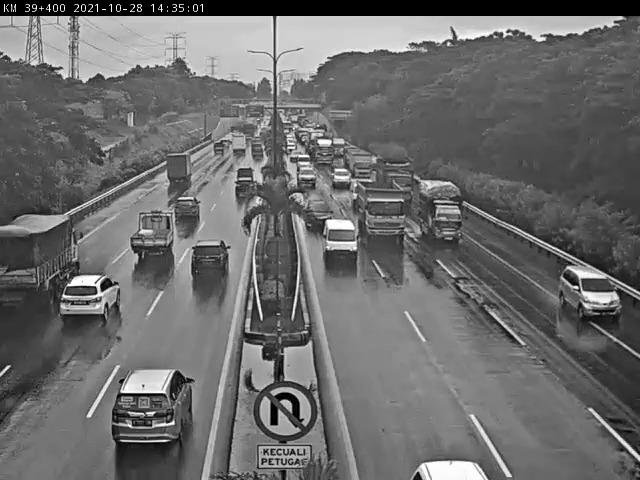big truck: (0, 216, 81, 309), (355, 182, 405, 240), (373, 147, 416, 182)
car: (104, 367, 214, 449), (550, 260, 630, 323), (48, 269, 126, 333), (395, 440, 490, 479), (179, 234, 237, 295), (321, 214, 359, 266), (162, 197, 204, 235), (291, 158, 320, 186), (303, 191, 329, 216), (328, 161, 351, 186), (231, 168, 259, 185), (232, 192, 257, 211)
small truck: (417, 181, 471, 246), (128, 208, 184, 268), (161, 146, 198, 187)
